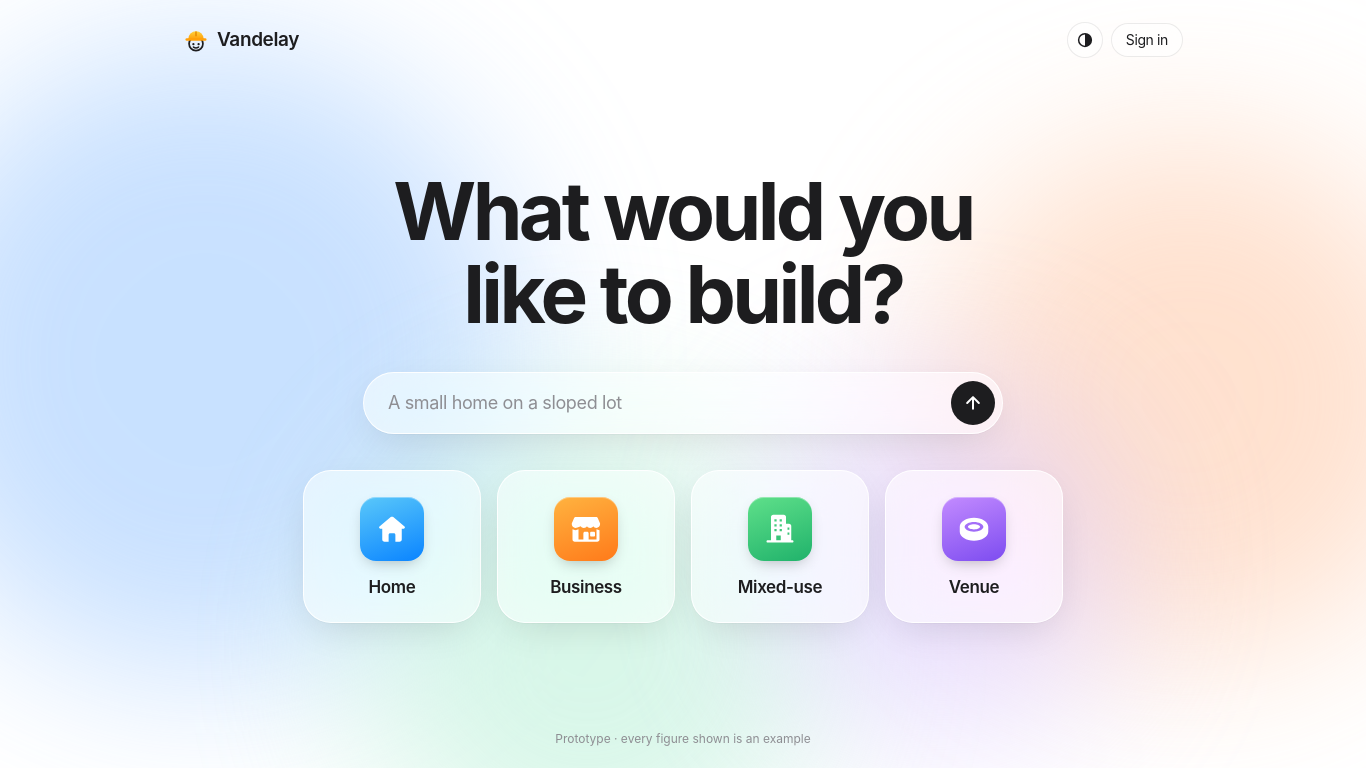
Test case: front door › routes a typed brief to the matching category on one screen
Type "a stadium for soccer" into the field named "Describe what you want to build" at [666, 403], box x1=388 y1=380 x2=943 y2=426
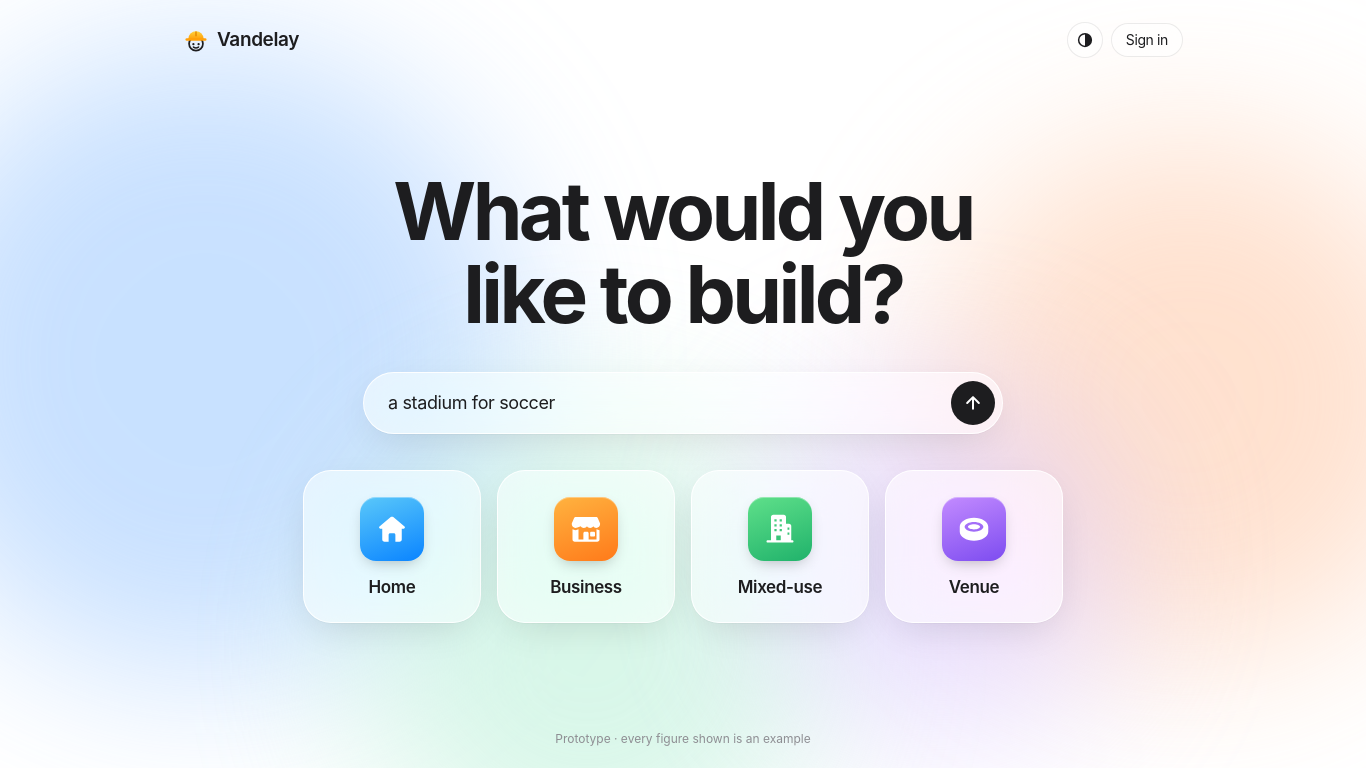
Click the button named "Start" at [973, 403], box x1=951 y1=381 x2=995 y2=425
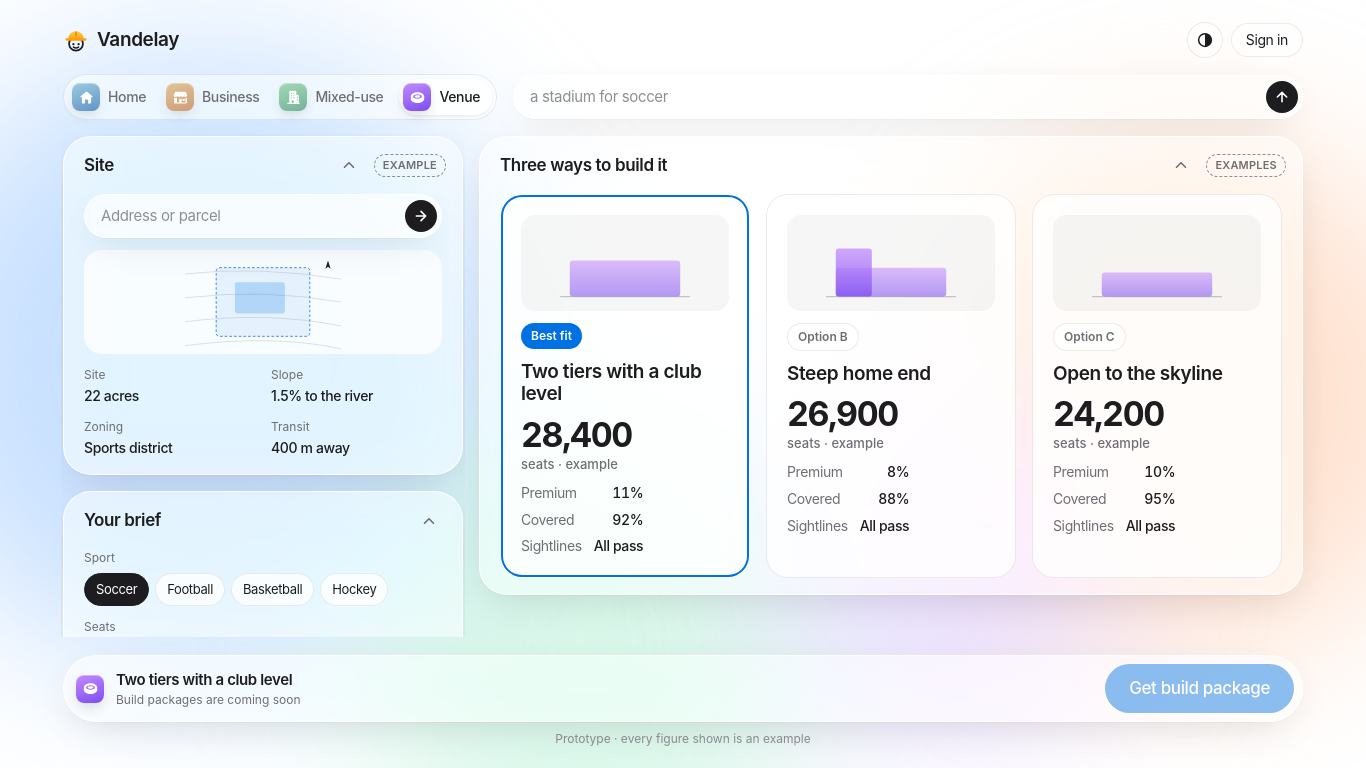
Check: the button "Site" is shown, box x1=72 y1=145 x2=366 y2=186
Check: the button "Your brief" is shown, box x1=72 y1=500 x2=446 y2=541
Check: the button "Three ways to build it" is shown, box x1=488 y1=145 x2=1198 y2=186
